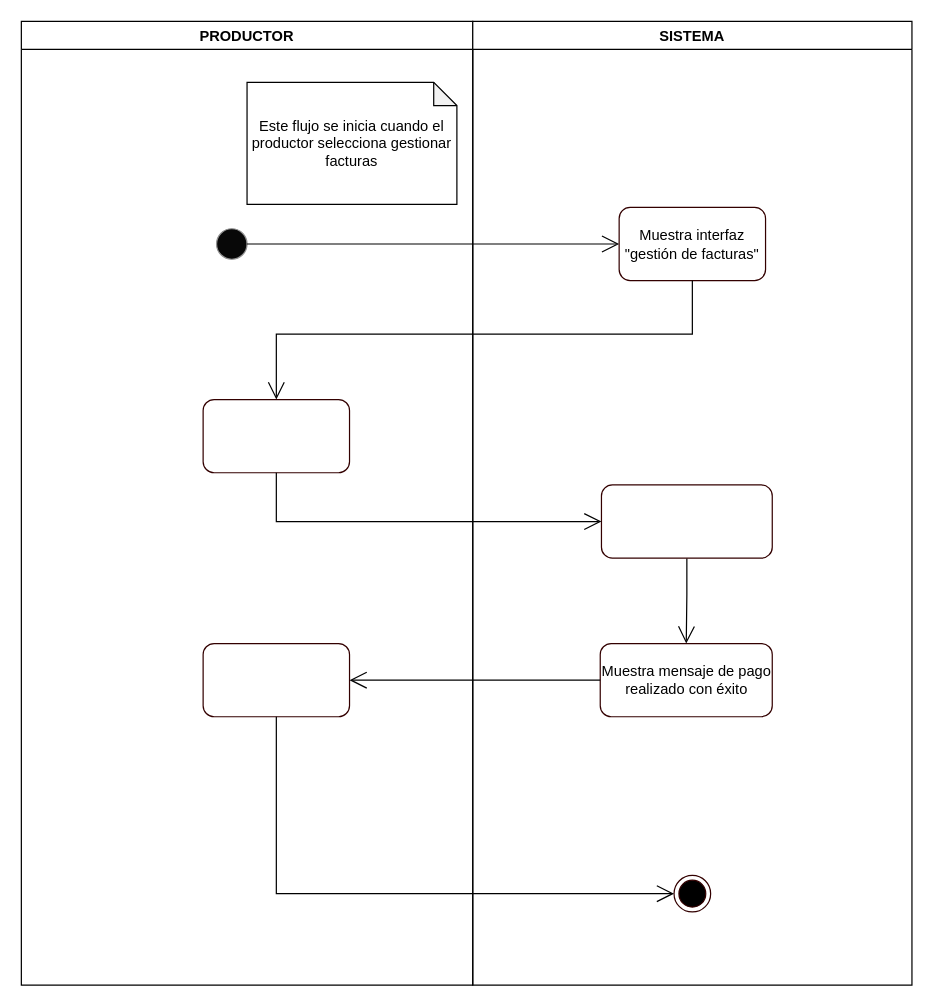
Some shapes in this 933 by 1007 pixel diagram are drawn without their labels. The box of each missing label's shape, as (x1, y1, x2, y2) in pixels:
Presiona aceptar: (202, 642, 350, 717)
Registra el pago correspondiente: (600, 484, 772, 558)
Selecciona pagar factura: (202, 398, 350, 473)
